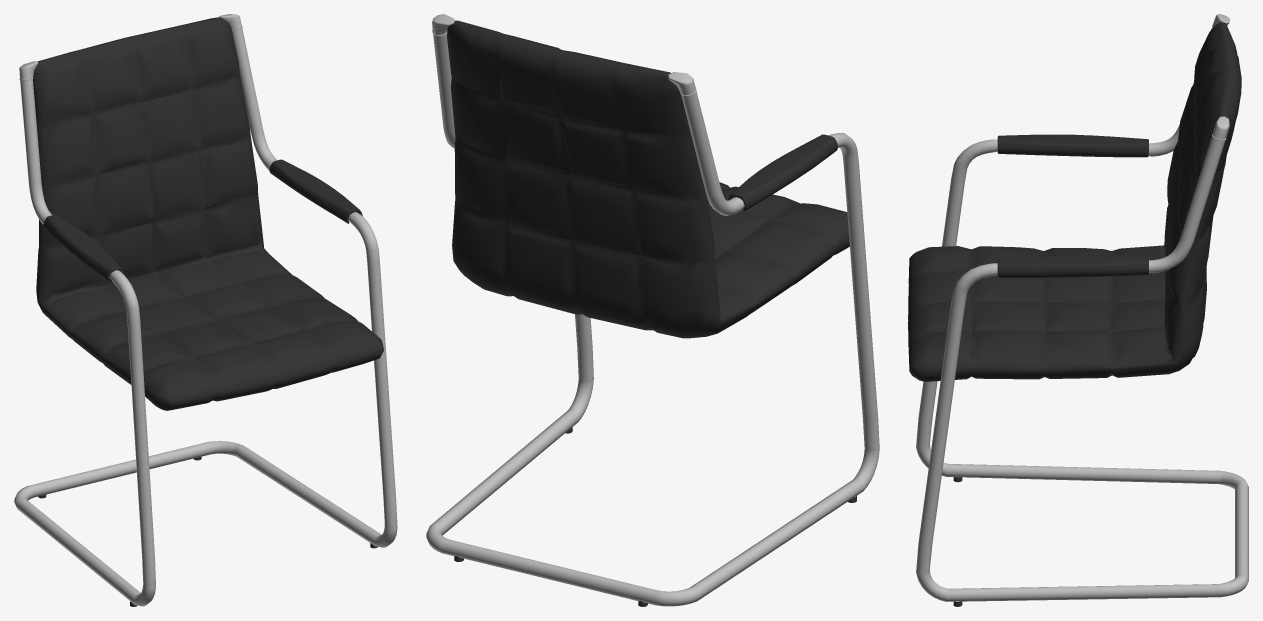
Rendered from CR_Chair2.glb.
3 renders of one model, left to right at view 1: azimuth 30°, elevation 25°; view 2: azimuth 150°, elevation 25°; view 3: azimuth 270°, elevation 25°, orthographic. The views are drawn at different scales.
Parts seen in each view (by area): view 1: Chair_2; view 2: Chair_2; view 3: Chair_2.
Boxes of the visible parts, x1,y1,x2,y2 form: Chair_2: [14, 14, 397, 606]; Chair_2: [426, 14, 879, 606]; Chair_2: [908, 14, 1248, 606].
Size of the model in its own units: 0.5559 by 0.9212 by 0.5994.
Materials: 1 (1 with a texture image).
